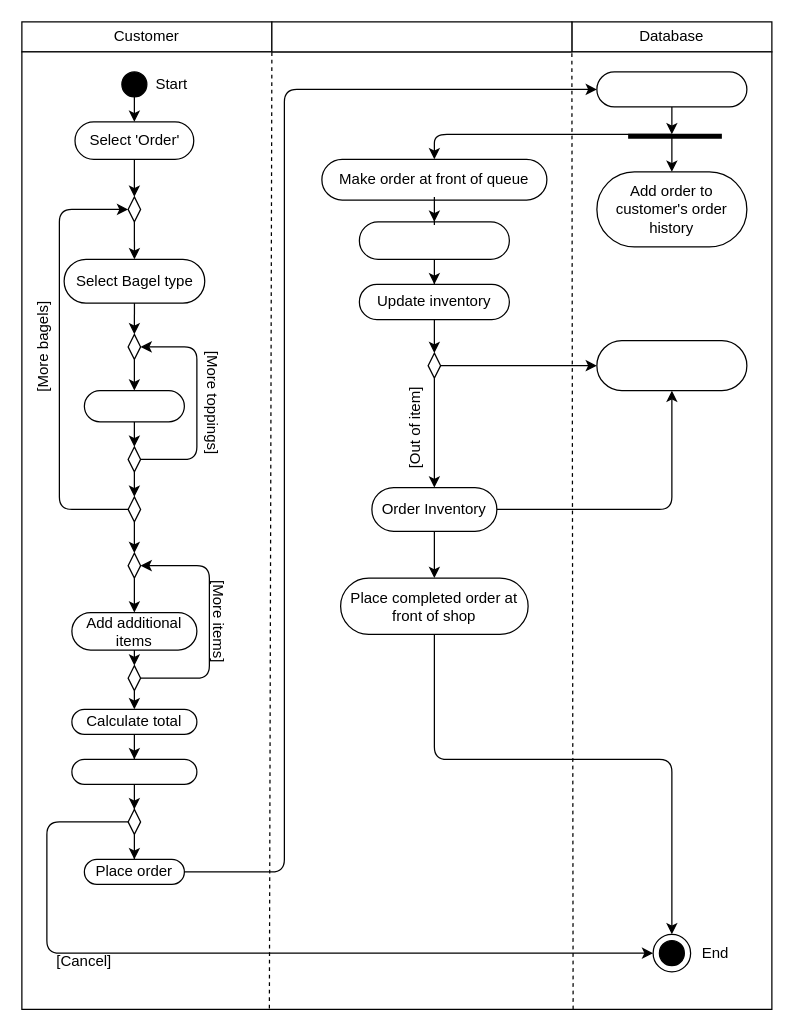
This 794x1033 diagram has some shape labels left out. Each missing label, with the centre of its shape:
"Add order to queue" goes at point (671, 89).
"Add topping" goes at point (133, 405).
"Chef" goes at point (421, 36).
"Confirm order" goes at point (134, 771).
"Update inventory in database" goes at point (671, 365).
"Update order status" goes at point (433, 240).
